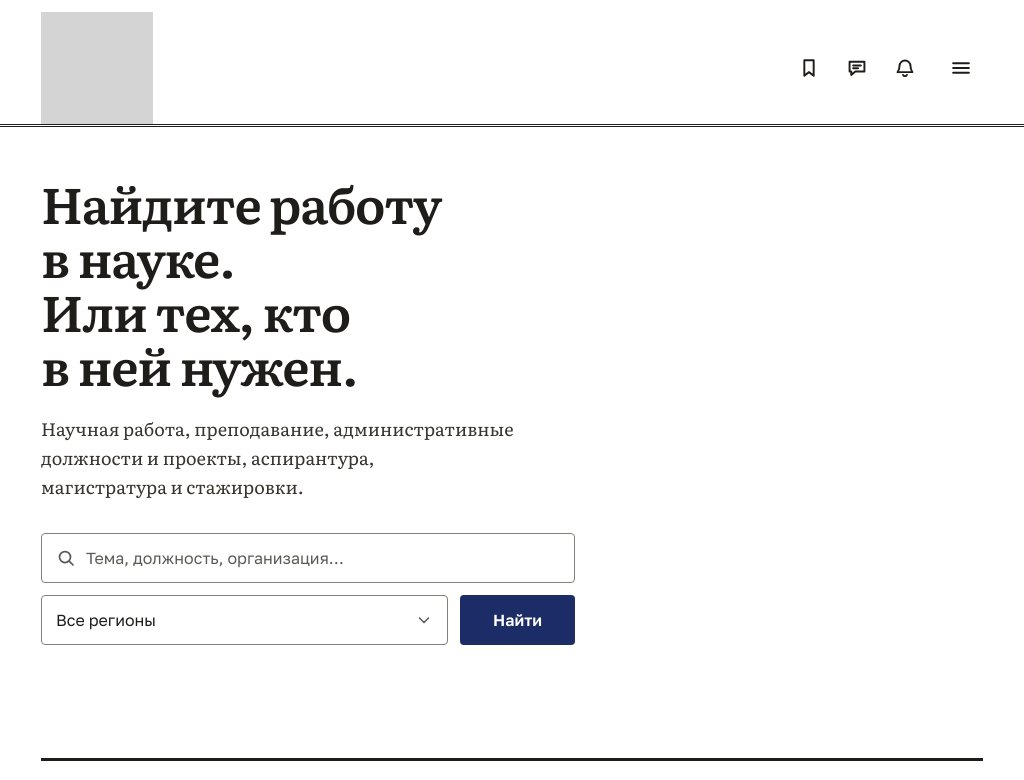
it: mobile menu for a signed-in person › shows who is signed in with the same two commands
Click the button named "Открыть меню" at (961, 68), box x1=939 y1=46 x2=983 y2=90
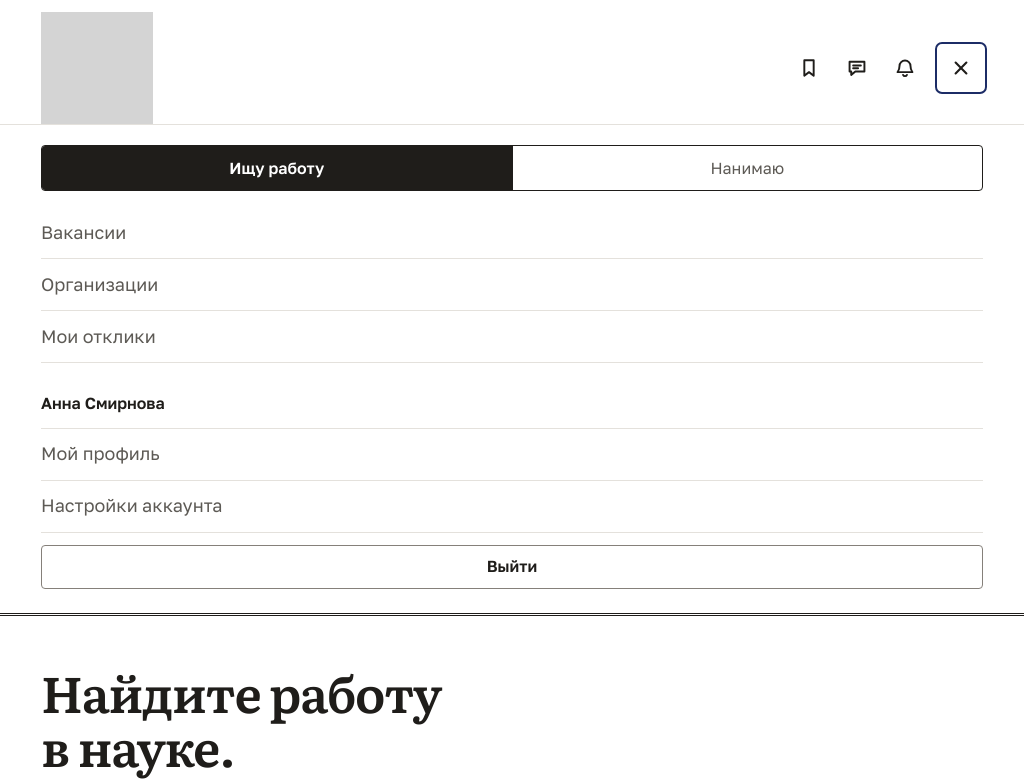
Check: the link "Войти" is not shown
Check: the text "Анна Смирнова" is shown, box x1=41 y1=393 x2=165 y2=413
Check: the link "Настройки аккаунта" is shown, box x1=41 y1=481 x2=983 y2=533
Click the button "Выйти" at (512, 567), box x1=41 y1=545 x2=983 y2=589
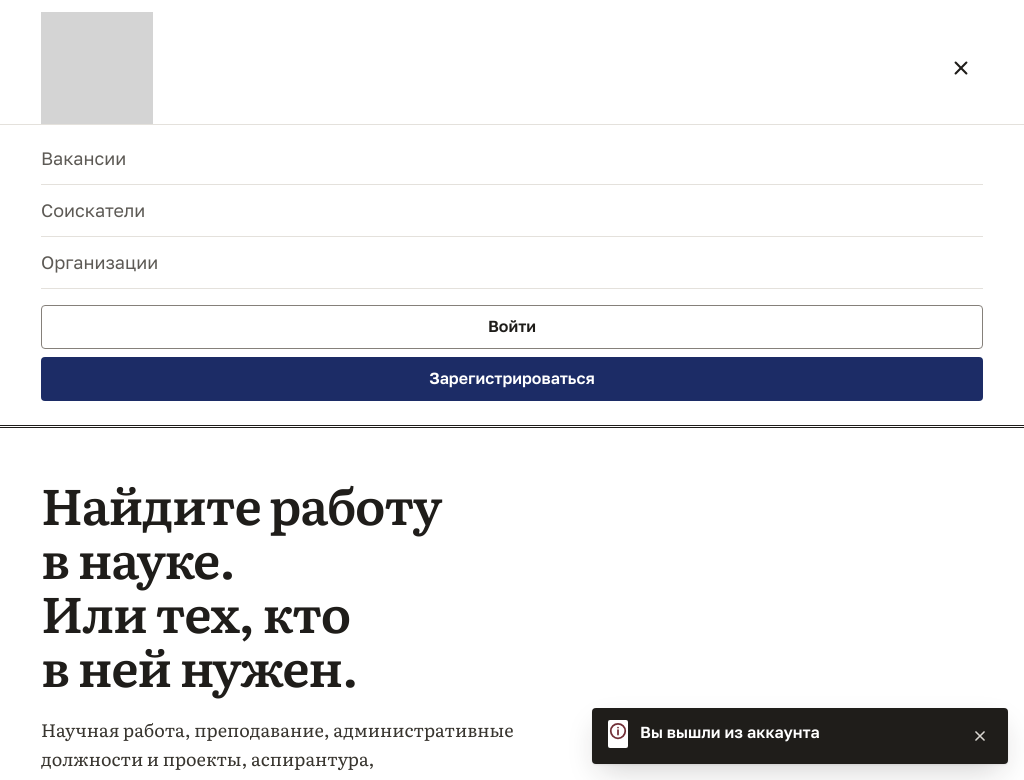
Check: the text "Вы вышли из аккаунта" is shown, box x1=640 y1=722 x2=820 y2=742
